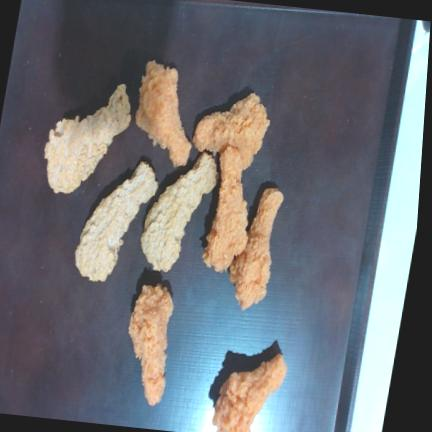chicken: (75, 161, 158, 281), (45, 85, 130, 193), (141, 152, 218, 271), (230, 187, 283, 310), (194, 93, 270, 170), (212, 354, 287, 432), (136, 61, 191, 166), (203, 147, 248, 272), (129, 284, 174, 406)
